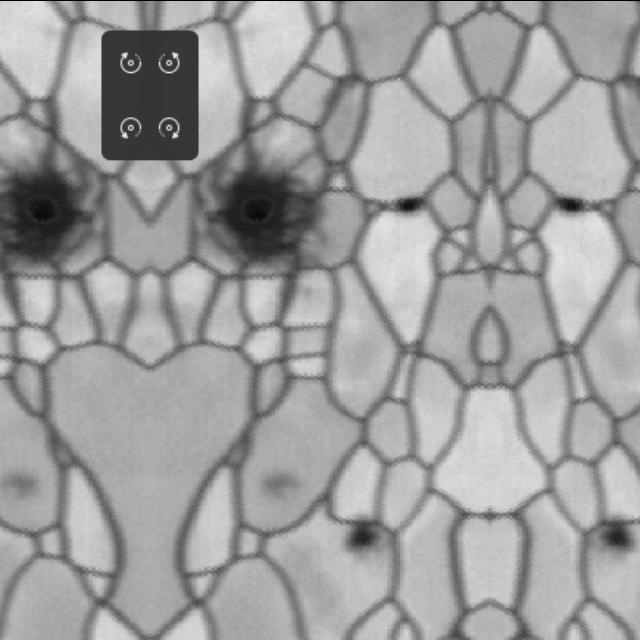good_void: (204, 151, 330, 273), (0, 151, 96, 273), (254, 455, 309, 513), (0, 455, 47, 513), (337, 505, 385, 561), (597, 505, 640, 561), (378, 191, 432, 217), (550, 191, 604, 217)
